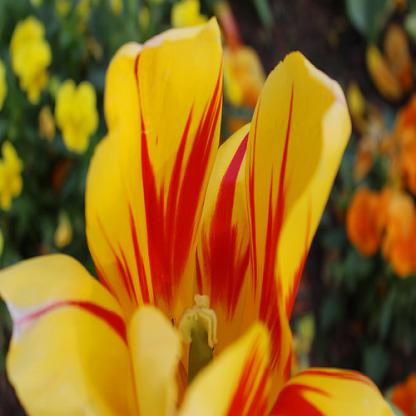TULIP: (59, 12, 385, 413)
